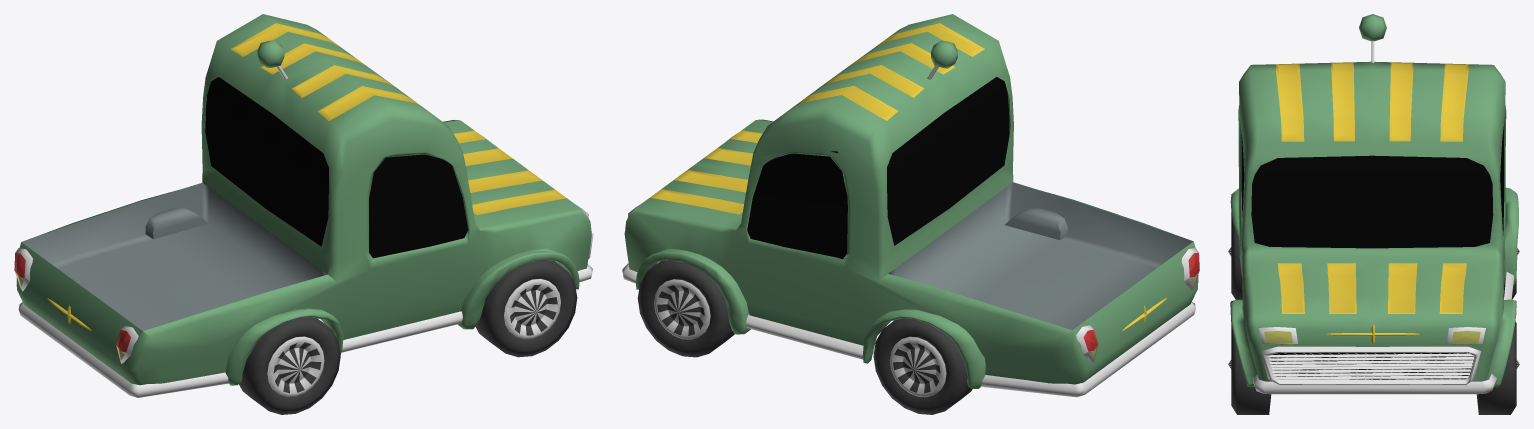
File: Truck1_Pushed.fbx
3 views of the same model, side by side, from view 1: azimuth 30°, elevation 25°; view 2: azimuth 150°, elevation 25°; view 3: azimuth 270°, elevation 25° (orthographic). The views are drawn at different scales.
Visible parts, largest first — view 1: Car1Body1, polySurface105, polySurface78, polySurface84, Car1Antenna, polySurface103, polySurface69; view 2: Car1Body1, polySurface105, polySurface78, polySurface84, Car1Antenna, polySurface69, polySurface103; view 3: Car1Body1, polySurface105, polySurface86, polySurface78, polySurface84, polySurface99, Car1Antenna, polySurface71, polySurface100, polySurface101.
Boxes of the visible parts, left/top/right/bottom form: Car1Body1: left=16, top=14, right=591, bottom=385; polySurface105: left=205, top=77, right=468, bottom=258; polySurface78: left=239, top=259, right=577, bottom=414; polySurface84: left=18, top=264, right=592, bottom=397; Car1Antenna: left=257, top=40, right=287, bottom=79; polySurface103: left=14, top=248, right=32, bottom=291; polySurface69: left=116, top=325, right=138, bottom=363; Car1Body1: left=624, top=14, right=1198, bottom=388; polySurface105: left=747, top=77, right=1009, bottom=259; polySurface78: left=637, top=260, right=972, bottom=414; polySurface84: left=622, top=263, right=1195, bottom=397; Car1Antenna: left=927, top=40, right=957, bottom=79; polySurface69: left=1181, top=248, right=1199, bottom=291; polySurface103: left=1076, top=325, right=1098, bottom=363; Car1Body1: left=1230, top=61, right=1518, bottom=387; polySurface105: left=1241, top=121, right=1504, bottom=248; polySurface86: left=1260, top=346, right=1480, bottom=385; polySurface78: left=1228, top=211, right=1519, bottom=414; polySurface84: left=1252, top=272, right=1513, bottom=394; polySurface99: left=1271, top=353, right=1473, bottom=379; Car1Antenna: left=1359, top=14, right=1386, bottom=62; polySurface71: left=1258, top=327, right=1297, bottom=344; polySurface100: left=1446, top=327, right=1485, bottom=344; polySurface101: left=1327, top=324, right=1419, bottom=343.
Bounding box in the file's own units: 10.02 × 6.34 × 5.51.
